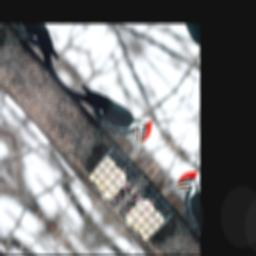Woodpecker: (50, 53, 159, 173)
